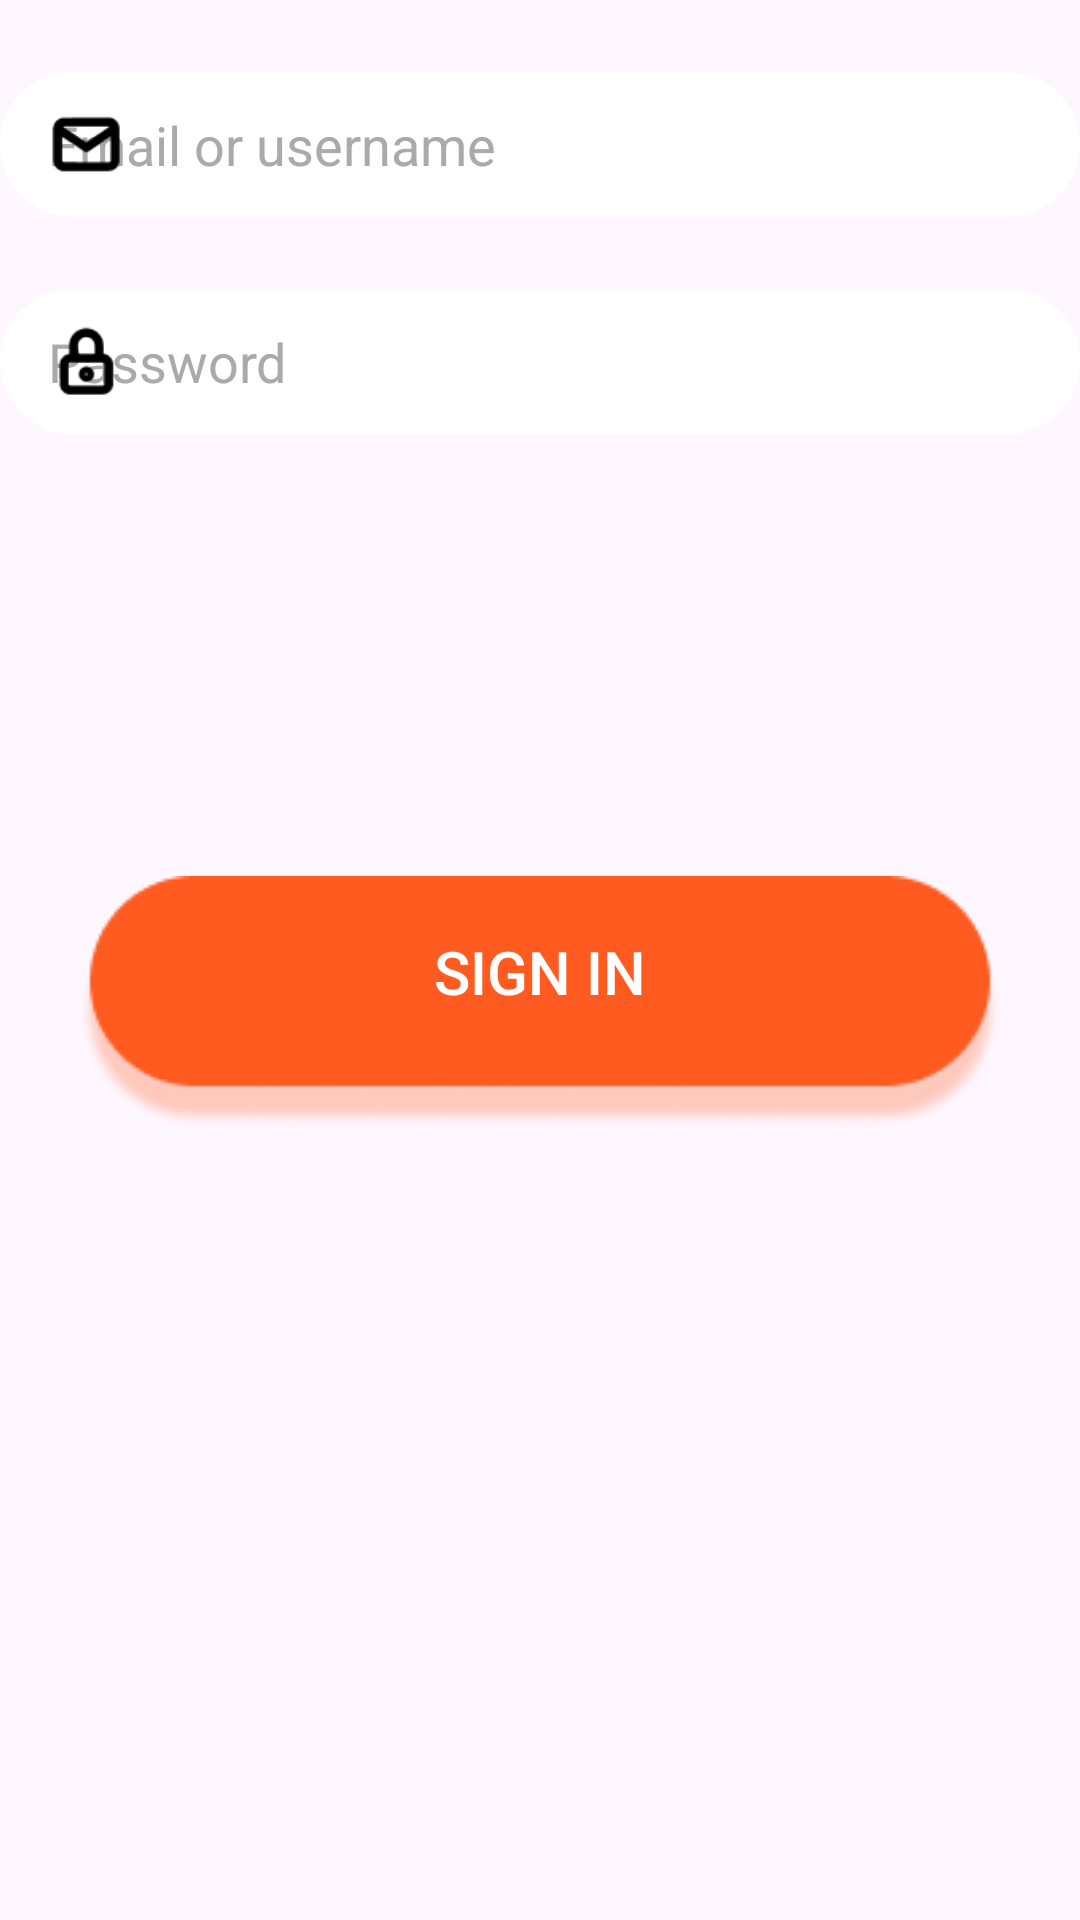

Screen size 1080 x 1920. Icon name, then its box in pixels as BBox(x1, y1, x2, y2):
lock: BBox(52, 327, 126, 395)
